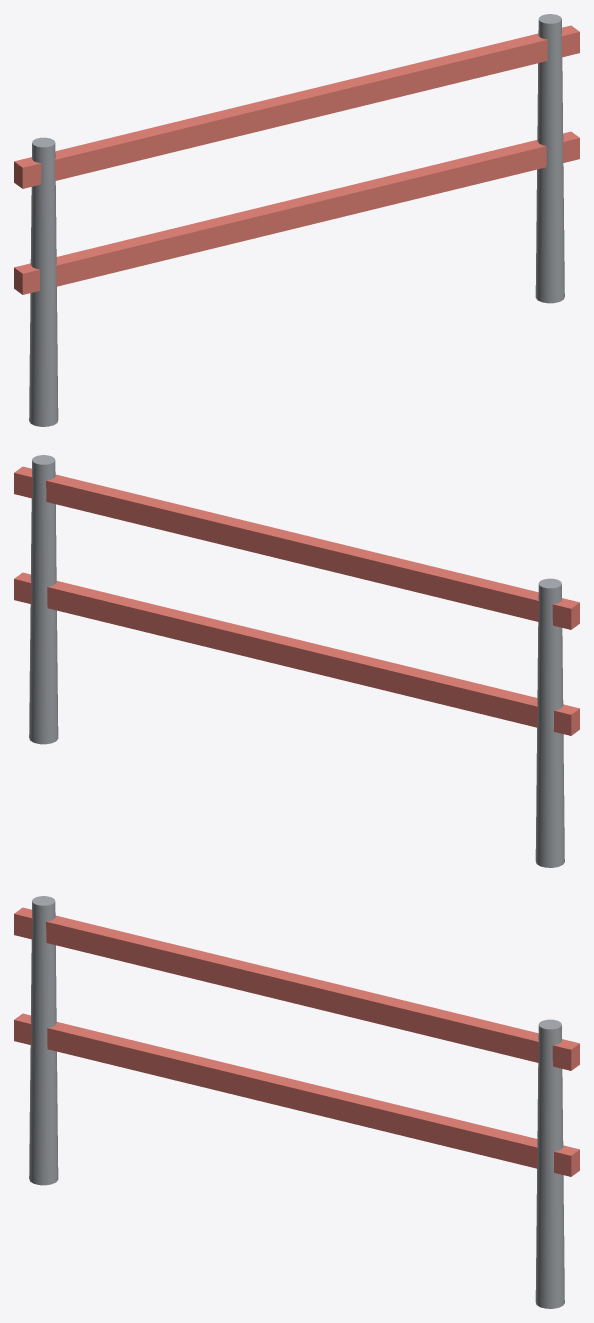
The model's file is Barrier.glb.
3 renders of one model, top to bottom at view 1: azimuth 30°, elevation 25°; view 2: azimuth 150°, elevation 25°; view 3: azimuth 330°, elevation 25°, orthographic.
Visible parts, largest first — view 1: model; view 2: model; view 3: model.
Boxes of the visible parts, x1,y1,x2,y2 form: model: (14,14,579,426); model: (14,455,579,867); model: (14,896,579,1308).
Size of the model in its own units: 2.2 by 1.05 by 0.0975.
